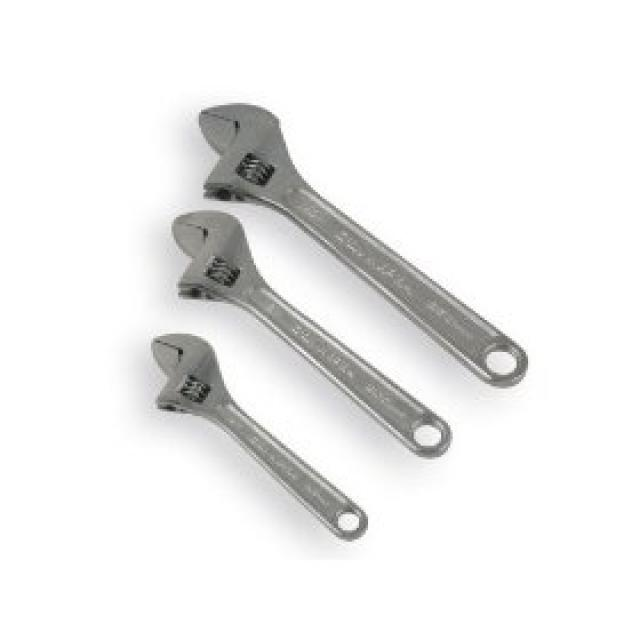wrench: (134, 308, 380, 572), (171, 86, 374, 216)
